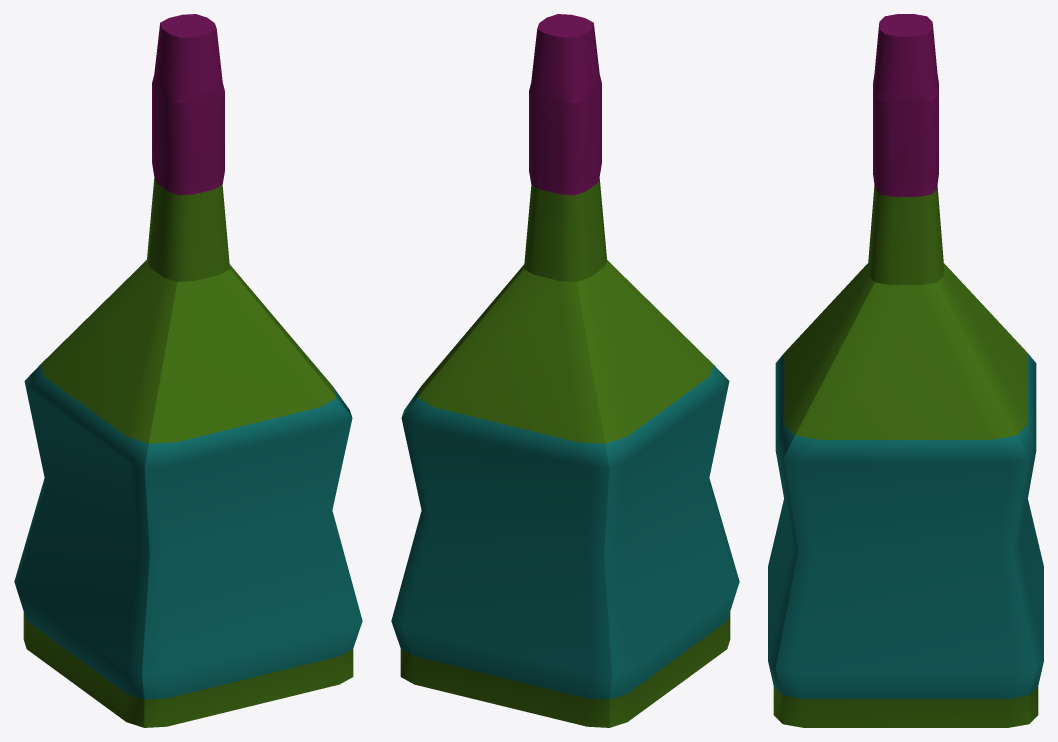
3 renders of one model, left to right at view 1: azimuth 30°, elevation 25°; view 2: azimuth 150°, elevation 25°; view 3: azimuth 270°, elevation 25°, orthographic. The views are drawn at different scales.
Parts seen in each view (by area): view 1: B3; view 2: B3; view 3: B3.
Boxes of the visible parts, x1,y1,x2,y2 form: B3: (14, 14, 362, 727); B3: (391, 14, 739, 727); B3: (768, 14, 1043, 727).
Bounding box in the file's own units: 48.51 × 125 × 48.51.
